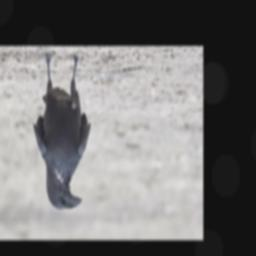Crow: (32, 51, 92, 211)
